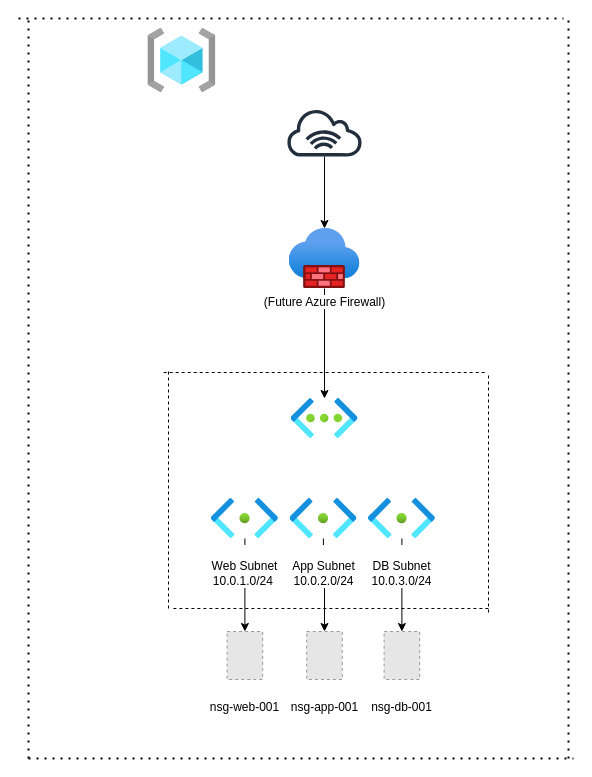
Some shapes in this 592 by 777 pixel diagram are drawn without their labels. Grey dashed boxes stand in for pictures. The shapes that lost their labels are listed below. From the top down, each one's centre as x and y in pixels, then its label:
(181,60): Resource Group ( rg-contoso-dev-001)
(324,132): Internet
(324,418): Virtual Network (vnet-contoso-dev-001) - 10.0.0.0/16
